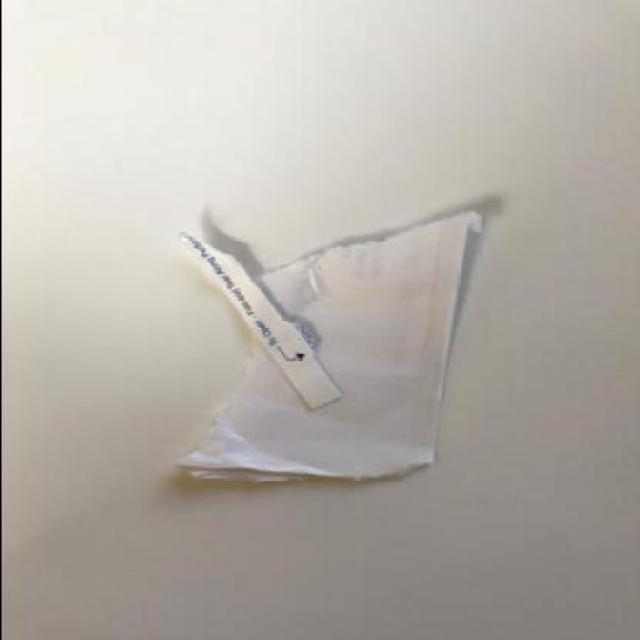PAPER: (154, 208, 483, 480)
